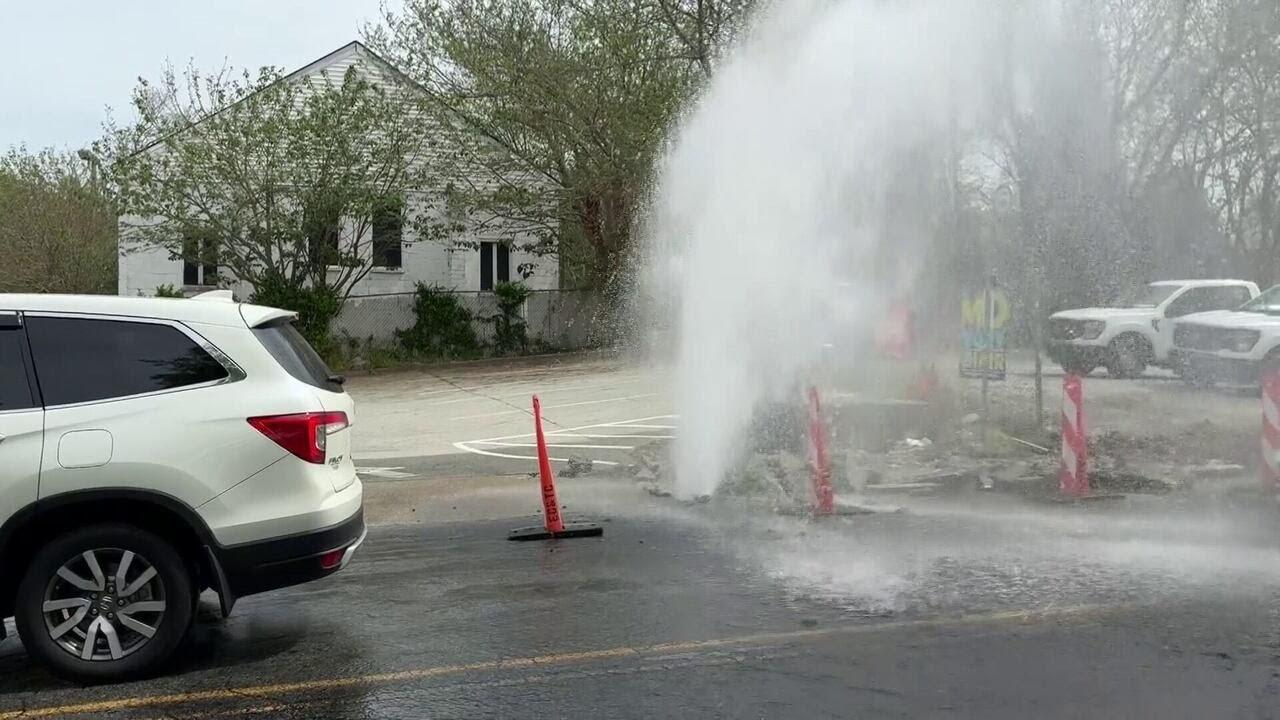pipe burst: (642, 0, 1280, 498)
water accumulation: (0, 499, 1280, 720)
